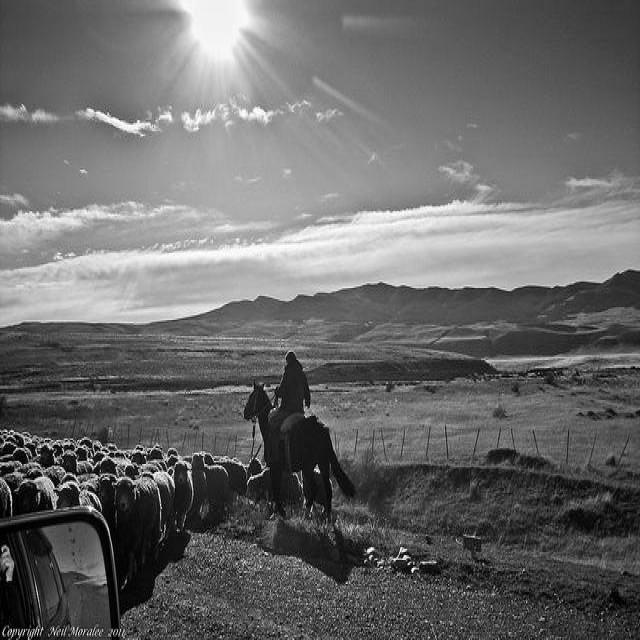vehicle: (2, 507, 126, 639)
